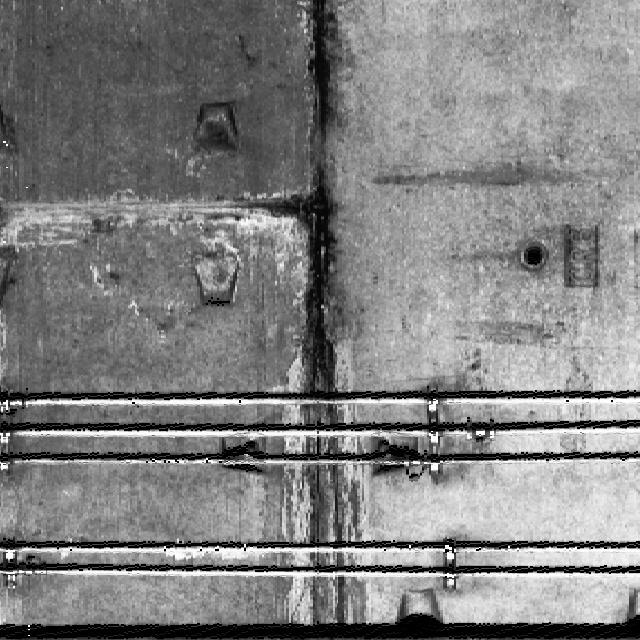leakage: (269, 5, 375, 628)
